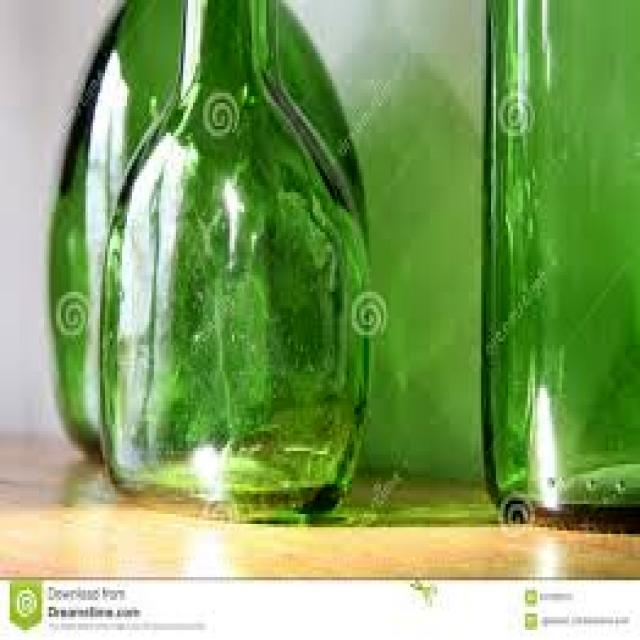Glass: (479, 0, 640, 540)
